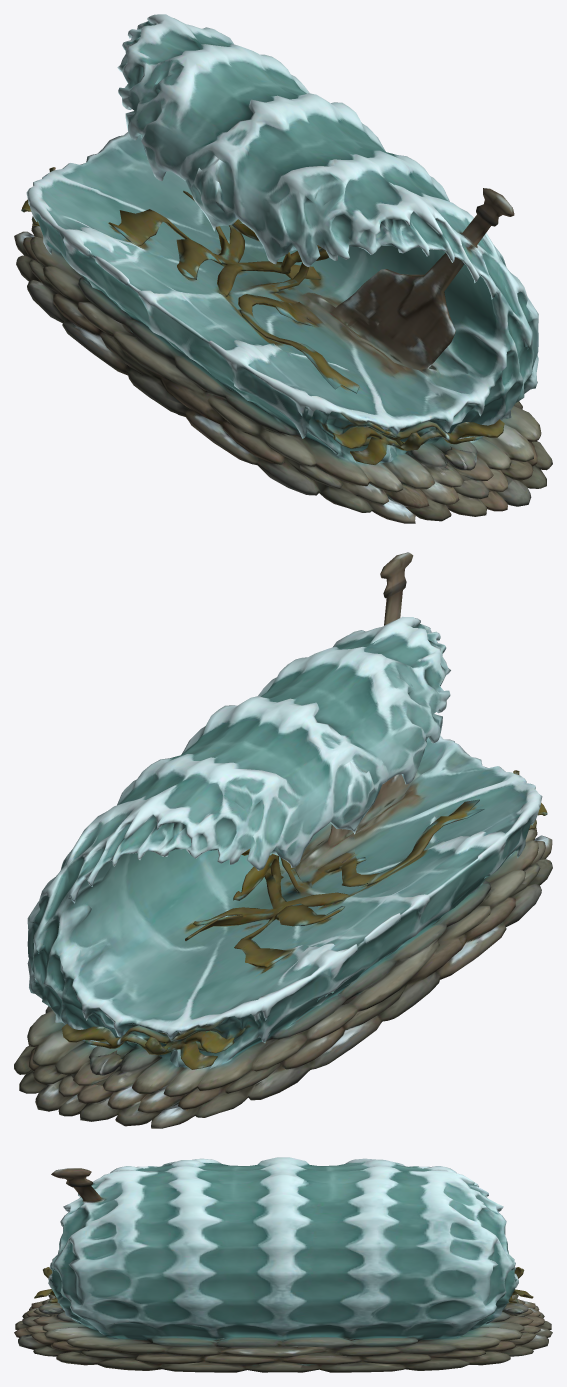
The model's file is lm_tide_wall.glb.
The picture shows the model from 3 angles, top to bottom: view 1: azimuth 30°, elevation 25°; view 2: azimuth 150°, elevation 25°; view 3: azimuth 270°, elevation 25°; orthographic projection. The views are drawn at different scales.
Parts seen in each view (by area): view 1: lm_tide_wall-col; view 2: lm_tide_wall-col; view 3: lm_tide_wall-col.
Boxes of the visible parts, <box> form: lm_tide_wall-col: <box>14,14,552,523</box>; lm_tide_wall-col: <box>14,552,552,1128</box>; lm_tide_wall-col: <box>14,1157,552,1372</box>.
Bounding box in the file's own units: 3 × 3 × 8.
1 material, 1 textured.
